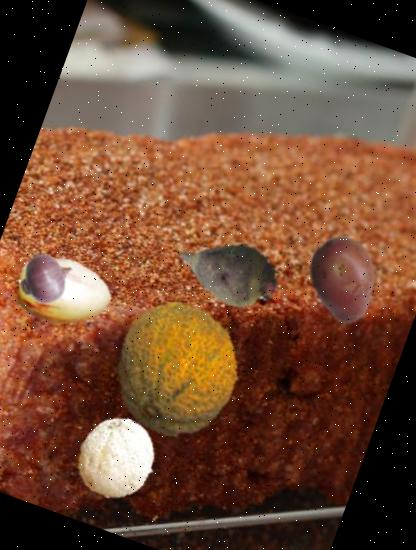Beetroot: (158, 202, 300, 344)
Cantaloupe: (91, 283, 263, 455), (64, 405, 170, 511)
Onion: (12, 244, 81, 312)
Pepino: (0, 229, 128, 356)
Potato: (288, 223, 402, 336)
